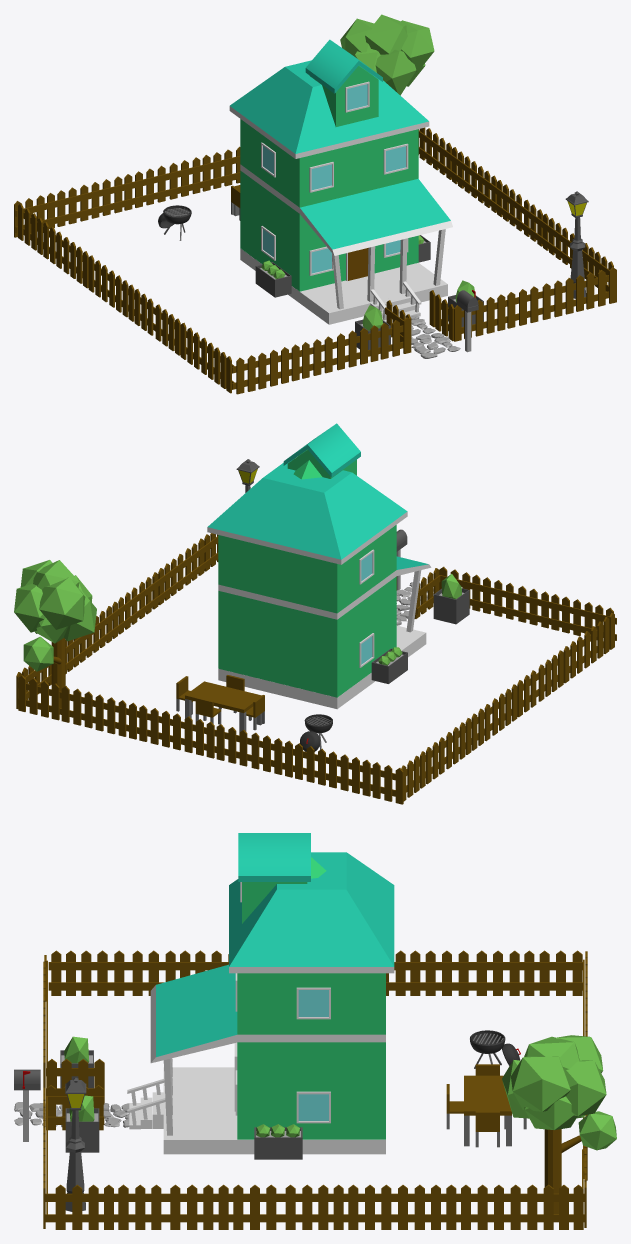
3 views of the same model, one above another, from view 1: azimuth 30°, elevation 25°; view 2: azimuth 150°, elevation 25°; view 3: azimuth 270°, elevation 25° (orthographic). The views are drawn at different scales.
Parts seen in each view (by area): view 1: ee14; view 2: ee14; view 3: ee14.
Boxes of the visible parts, x1,y1,x2,y2 form: ee14: [14, 14, 616, 394]; ee14: [14, 423, 616, 804]; ee14: [14, 833, 616, 1229].
Bounding box in the file's own units: 25.73 × 14.48 × 27.03.
